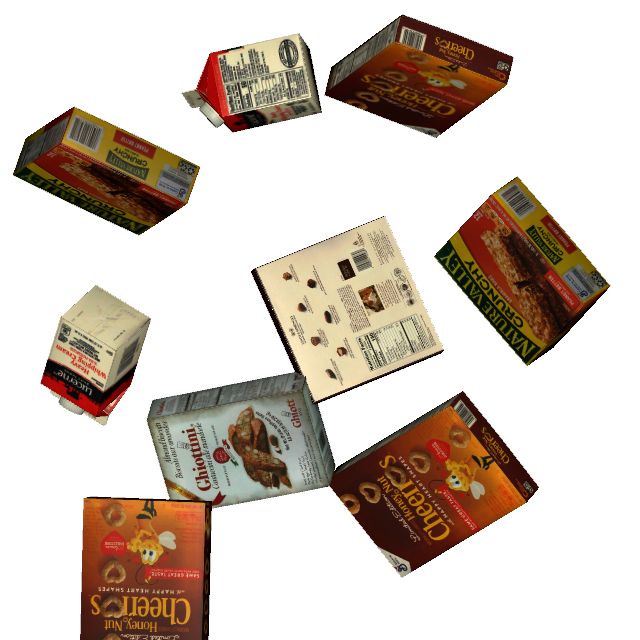candy_minipralines_lindt: (251, 216, 444, 405)
cereal_cheerios_honeynut: (330, 391, 539, 578), (325, 14, 514, 138), (80, 496, 212, 640)
drink_whippingcream_lucerne: (40, 285, 151, 426), (182, 33, 322, 132)
snack_biscotti_ghiott: (147, 372, 336, 509)
snack_granolabar_naturevalley: (434, 177, 610, 366), (13, 107, 200, 235)
